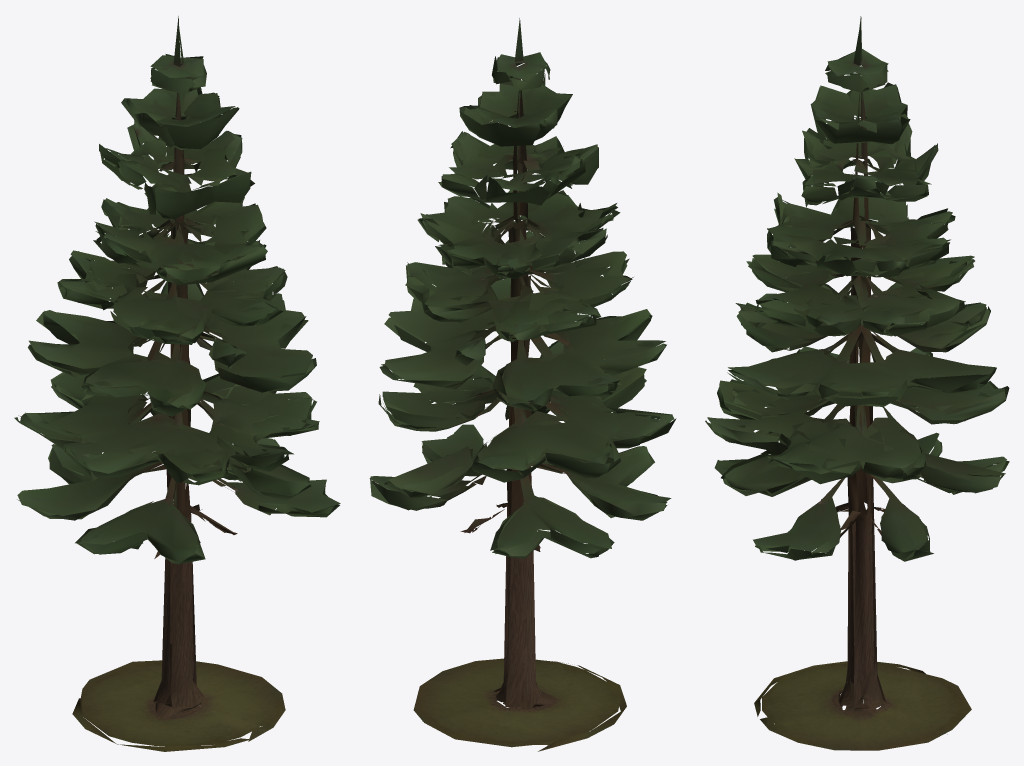
Rendered from HillPine.glb.
3 views of the same model, side by side, from view 1: azimuth 30°, elevation 25°; view 2: azimuth 150°, elevation 25°; view 3: azimuth 270°, elevation 25° (orthographic).
Visible parts, largest first — view 1: node_0; view 2: node_0; view 3: node_0.
Boxes of the visible parts, x1=… form: node_0: x1=14, y1=16, x2=340, y2=751; node_0: x1=369, y1=18, x2=676, y2=751; node_0: x1=705, y1=16, x2=1009, y2=750.
Bounding box in the file's own units: 0.4443 × 1.15 × 0.456.
Materials: 1 (1 with a texture image).
